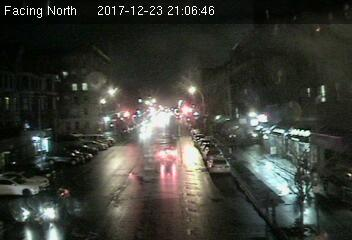car: (206, 156, 230, 174), (156, 143, 178, 161)
